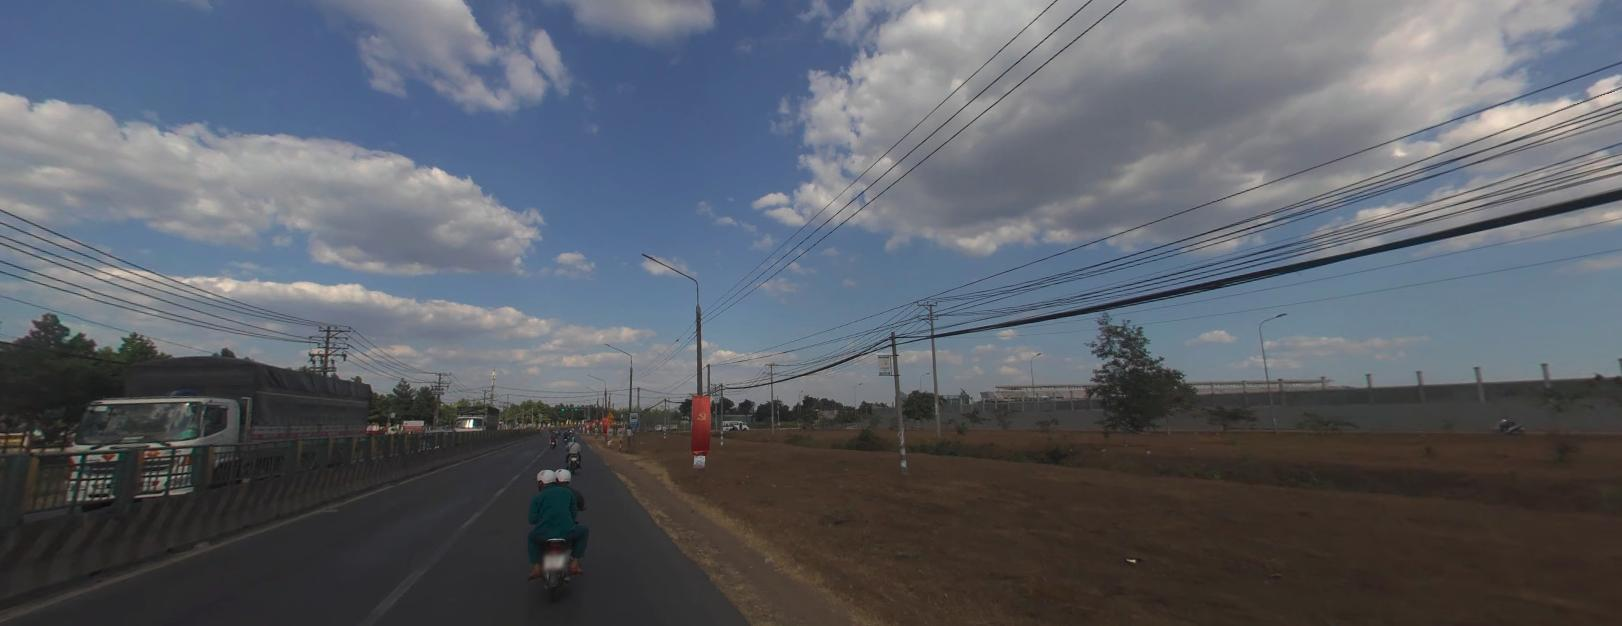Nguy hiem: (607, 410, 614, 416), (607, 417, 613, 423)
